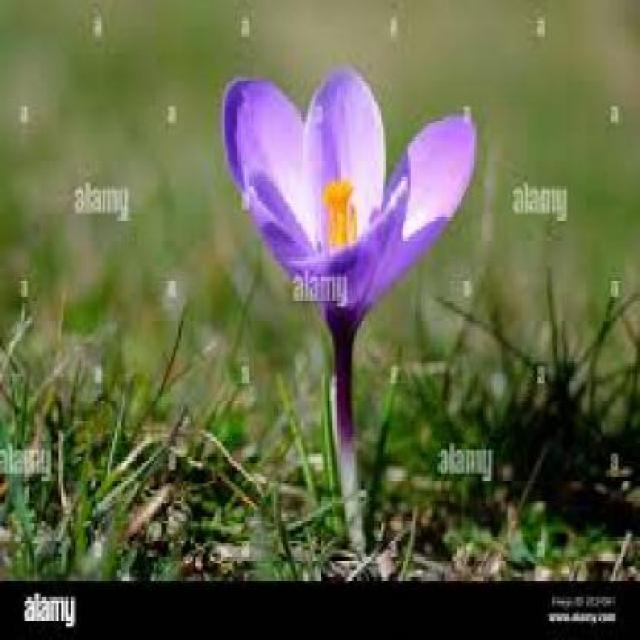saffron open: (222, 67, 475, 552)
